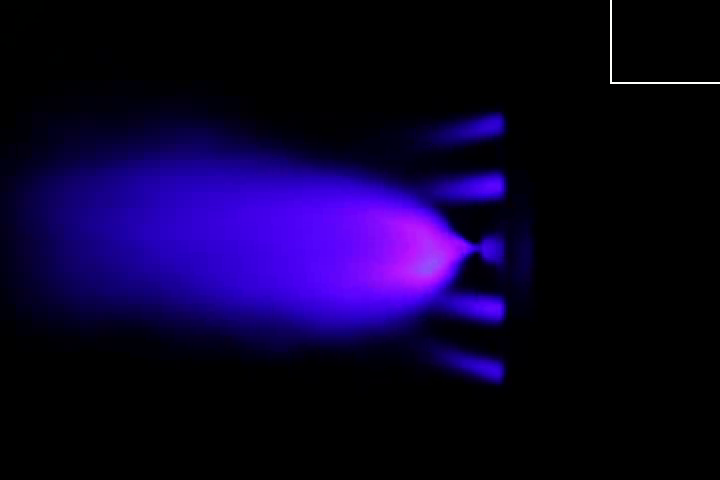burner cap: (480, 230, 508, 270)
pilot flame: (421, 172, 508, 204), (423, 112, 504, 144), (438, 349, 505, 387), (429, 291, 505, 323)
stable: (368, 202, 478, 298)
